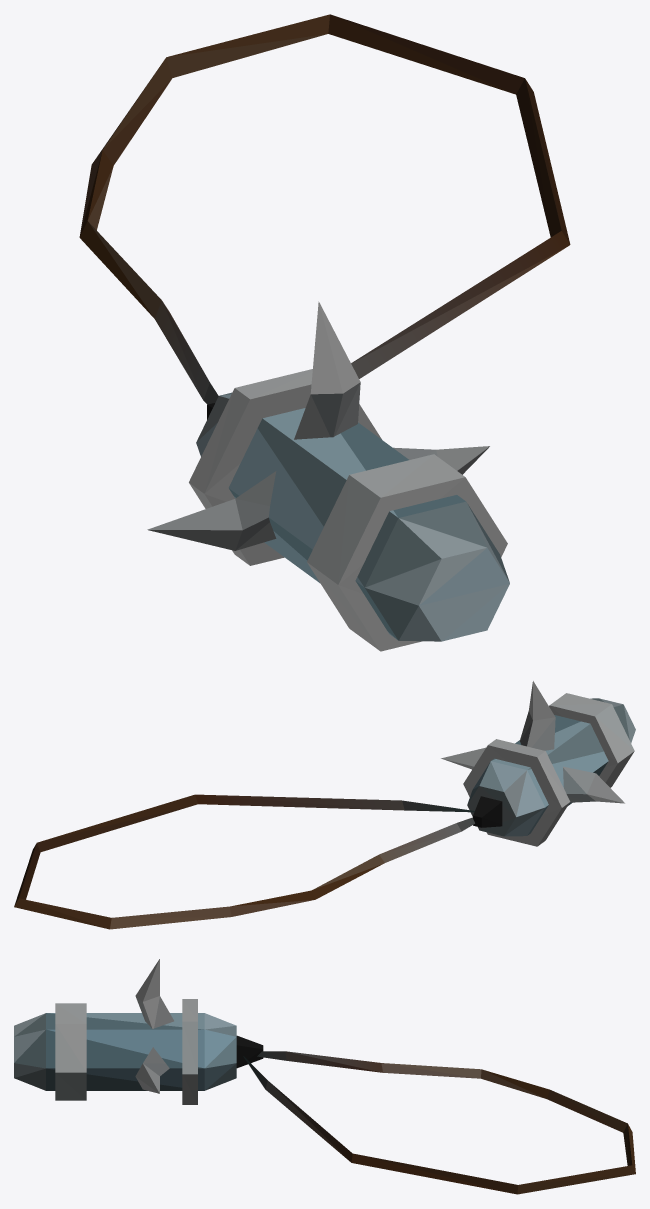
File: prop_treasure_amulet_silver.fbx
3 views of the same model, one above another, from view 1: azimuth 30°, elevation 25°; view 2: azimuth 150°, elevation 25°; view 3: azimuth 270°, elevation 25° (orthographic). The views are drawn at different scales.
Parts seen in each view (by area): view 1: prop_treasure_amulet_silver; view 2: prop_treasure_amulet_silver; view 3: prop_treasure_amulet_silver.
Part boxes in pixels (x1,y1,x2,y2): prop_treasure_amulet_silver: [79, 14, 570, 651]; prop_treasure_amulet_silver: [14, 681, 635, 929]; prop_treasure_amulet_silver: [14, 959, 635, 1194].
Size of the model in its own units: 0.7721 by 0.2678 by 1.12.
